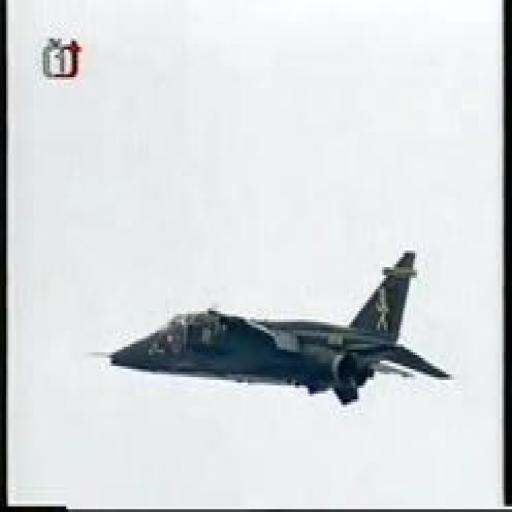aircraft: (111, 250, 455, 407)
